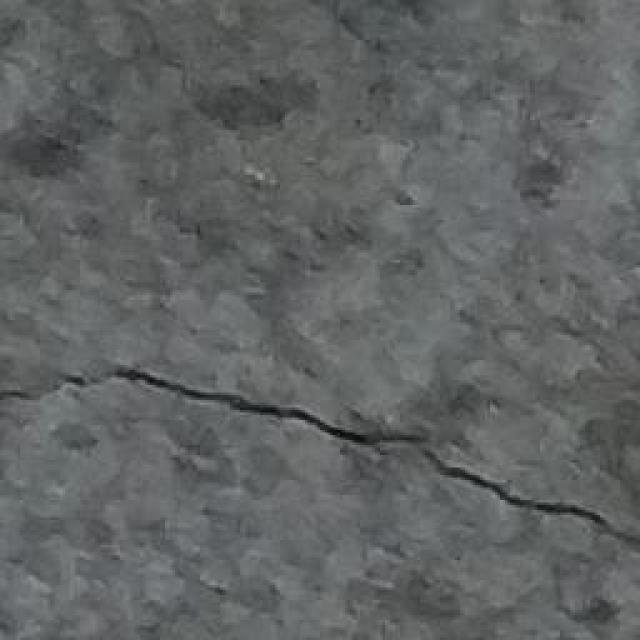Transverse: (12, 357, 640, 640)
